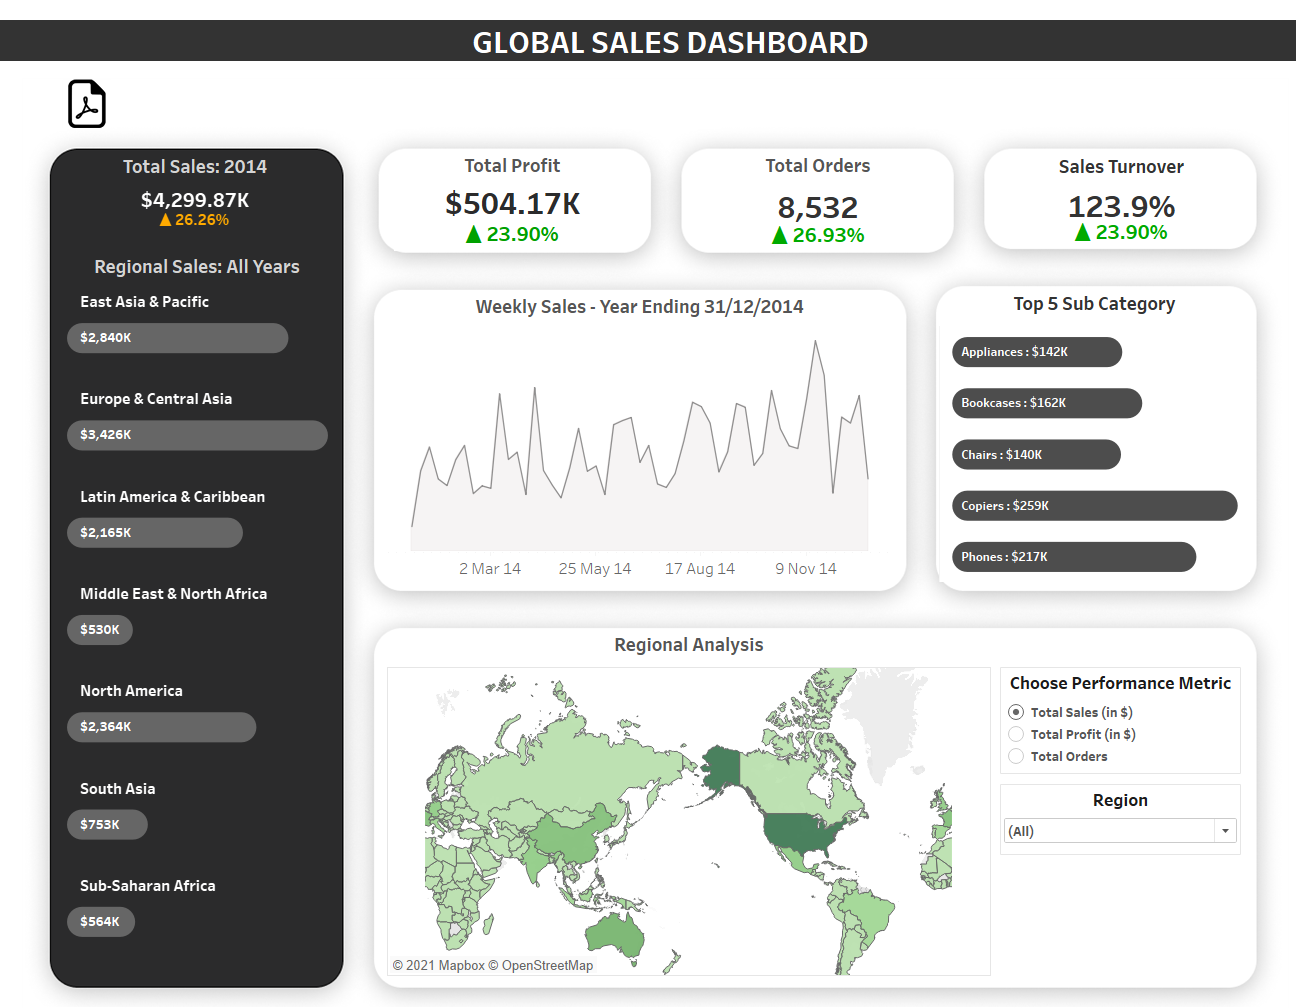

What the dashboard file says about the page in this screenshot:
{"tool":"tableau","page":{"name":"Global Sales Dashboard","canvas":[1367,1007],"ordinal":1},"visuals":[{"type":"title","box":[8,8,1351,49]},{"type":"image","param":"E:/DataAnalytics/Python/Portfolio datasets/Customer Segmentation/SalesDashboardT","box":[35.3,69.9,1291.8,931.2]},{"type":"dashboard-object","box":[60,71,79,49]},{"type":"worksheet","title":"Total Profit","mark":"Automatic","cols":["Calculation_243475880154624003"],"box":[407,140,237,104]},{"type":"worksheet","title":"Total Orders","mark":"Automatic","cols":["Profit-CY (copy)_243475880160448520"],"box":[714,140,234,103]},{"type":"worksheet","title":"Total Sales","mark":"Automatic","cols":["Profit-CY (copy)_243475880163811340"],"box":[129,141,162,94]},{"type":"worksheet","title":"Sales Turnover","mark":"Automatic","cols":["Calculation_243475880164126734"],"box":[1024,141,221,99]},{"type":"worksheet","title":"Regional Sales: All Years","mark":"Line","rows":["Region"],"box":[68,241,284,721]},{"type":"worksheet","title":"Top 5 Sub Category","mark":"Line","rows":["SubCategory"],"box":[952,278,311,296]},{"type":"worksheet","title":"Weekly Sales - Year Ending 31/12/2014","mark":"Area","rows":["Profit-CY (copy)_243475880163811340","Profit-CY (copy)_243475880163811340"],"cols":["OrderDate"],"box":[401,281,503,292]},{"type":"worksheet","title":"Full Order Details","mark":"Automatic","rows":["CustomerName","Segment","Calculation_944067097583546368","Quantity","Sales"],"box":[423.8,292.6,906.8,659.9]},{"type":"worksheet","title":"Regional Analysis","mark":"Automatic","box":[400,619,604,349]},{"type":"parameter","param":"[Parameters].[Days Till Shipment Parameter]","box":[1013,659,241,107]},{"type":"filter","title":"Regional Analysis","param":"[federated.1qnuz3q0zn1xx11gxllty1ndcbgw].[none:Region:nk]","box":[1013,776,241,71]}]}

Visuals, with their boxes on the page's 1367x1007 design canvas (x1, y1, x2, y2). These are canvas units, not pixel positions in the 1296x1008 screenshot, which may show the page scaled, cropped or inside an application window:
title: box(8, 8, 1359, 57)
image: box(35, 70, 1327, 1001)
dashboard-object: box(60, 71, 139, 120)
"Total Profit" worksheet: box(407, 140, 644, 244)
"Total Orders" worksheet: box(714, 140, 948, 243)
"Total Sales" worksheet: box(129, 141, 291, 235)
"Sales Turnover" worksheet: box(1024, 141, 1245, 240)
"Regional Sales: All Years" worksheet (Line marks): box(68, 241, 352, 962)
"Top 5 Sub Category" worksheet (Line marks): box(952, 278, 1263, 574)
"Weekly Sales - Year Ending 31/12/2014" worksheet (Area marks): box(401, 281, 904, 573)
"Full Order Details" worksheet: box(424, 293, 1331, 952)
"Regional Analysis" worksheet: box(400, 619, 1004, 968)
parameter: box(1013, 659, 1254, 766)
"Regional Analysis" filter: box(1013, 776, 1254, 847)
